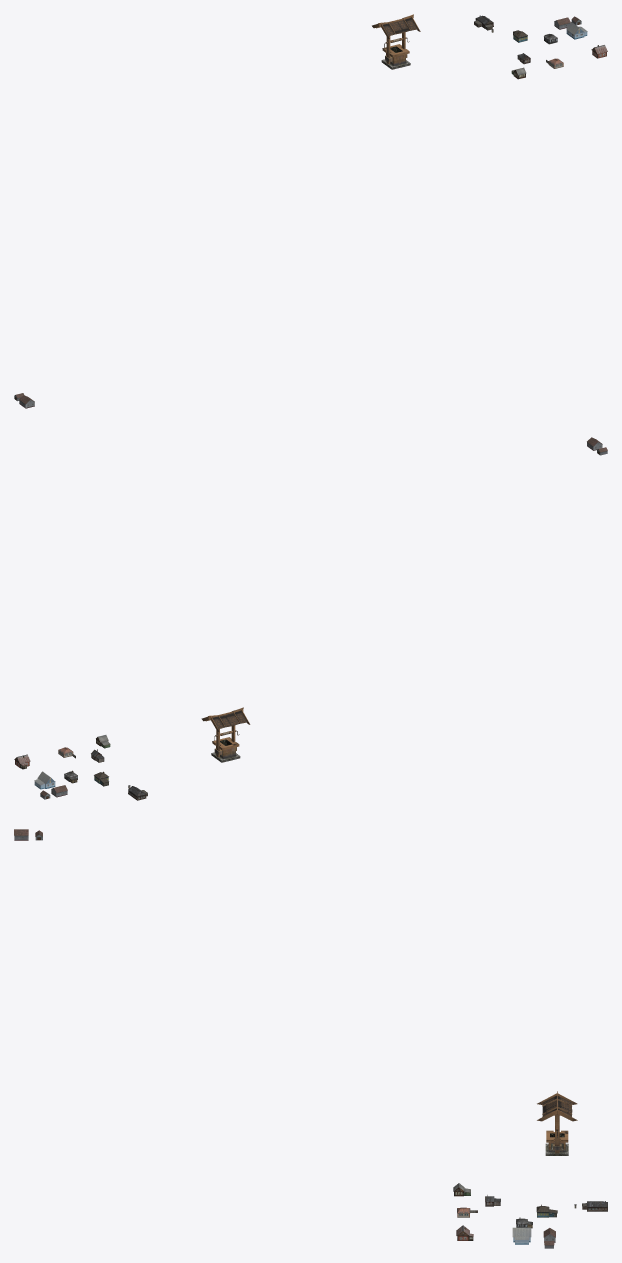
Rendered from village buildings.fbx.
3 renders of one model, top to bottom at view 1: azimuth 30°, elevation 25°; view 2: azimuth 210°, elevation 25°; view 3: azimuth 270°, elevation 25°, orthographic. The views are drawn at different scales.
Parts seen in each view (by area): view 1: model_0; view 2: model_0; view 3: model_0.
Part boxes in pixels (x1=…): model_0: x1=372, y1=14, x2=420, y2=69; model_0: x1=201, y1=707, x2=250, y2=762; model_0: x1=537, y1=1091, x2=577, y2=1155.
Bounding box in the file's own units: 1105548 × 81217 × 643817.
